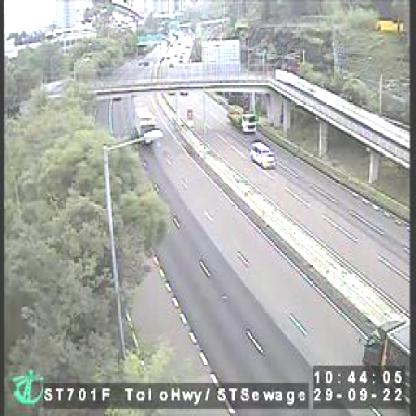Car: (131, 106, 161, 149), (243, 140, 276, 172)
Truck: (222, 102, 258, 134)
